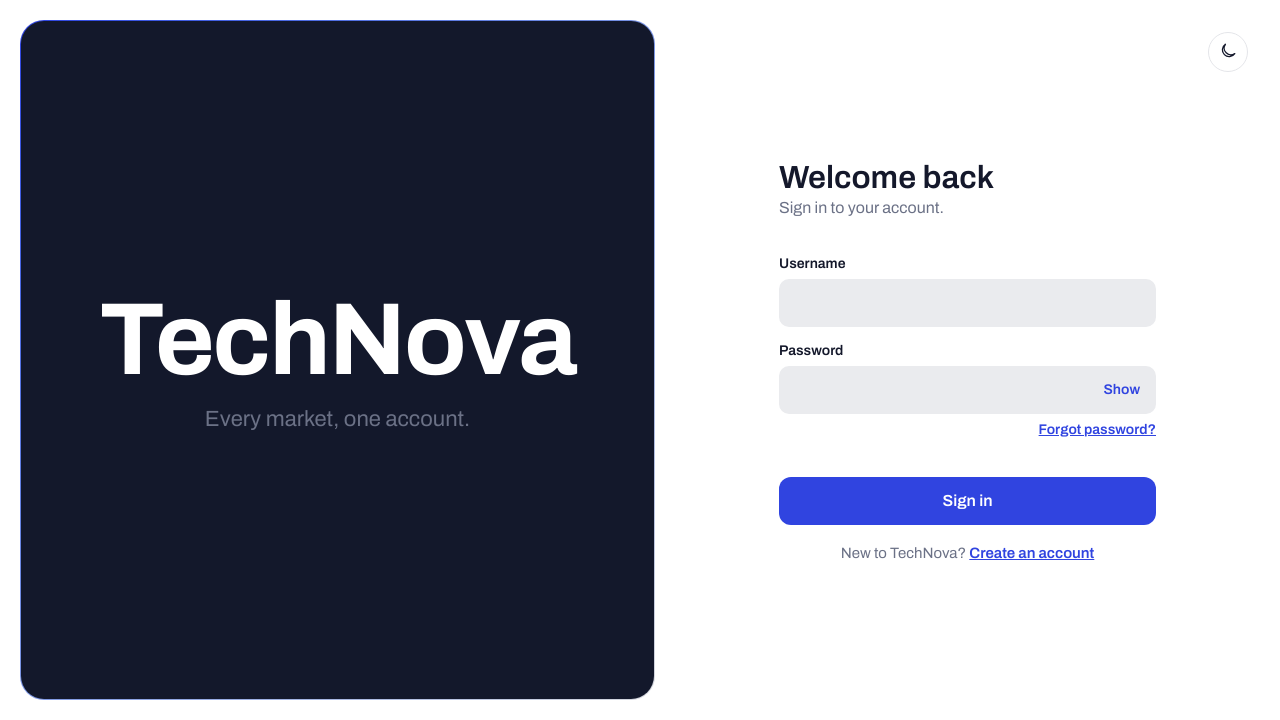
Test case: LoginComponent › shows "is required" messages and does not submit an empty form
Click the submit button: (968, 500) [779,476,1156,524]
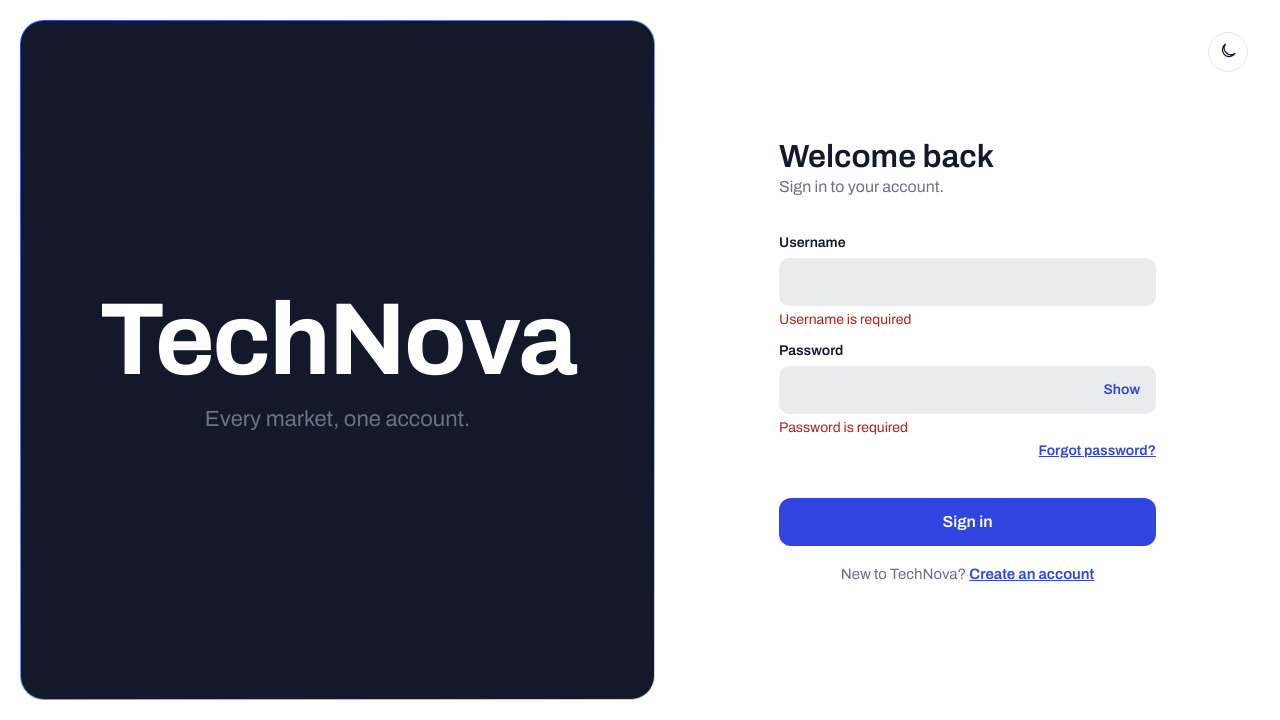
Result: the text "Username is required" is shown at [779,312,911,326]
Result: the text "Password is required" is shown at [779,420,908,434]
